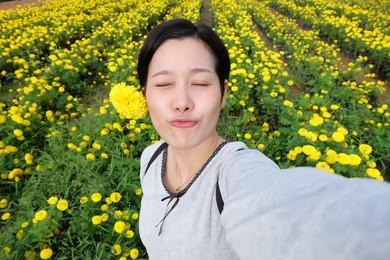face: (148, 57, 220, 148)
